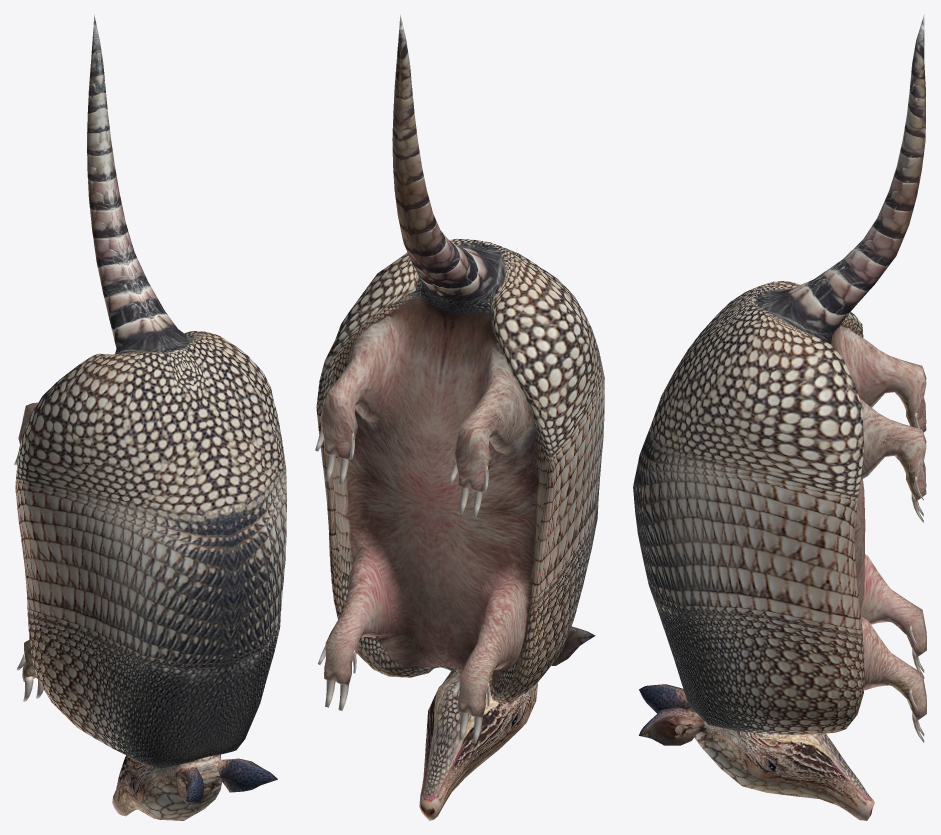
The model's file is 10002_Armadillo_v1_L3.obj.
3 views of the same model, side by side, from view 1: azimuth 30°, elevation 25°; view 2: azimuth 150°, elevation 25°; view 3: azimuth 270°, elevation 25° (orthographic). The views are drawn at different scales.
Parts seen in each view (by area): view 1: 10002_Armadillo_v1; view 2: 10002_Armadillo_v1; view 3: 10002_Armadillo_v1.
Part boxes in pixels (box(x1,y1,x2,y2)): 10002_Armadillo_v1: box(14, 15, 286, 820); 10002_Armadillo_v1: box(315, 15, 604, 820); 10002_Armadillo_v1: box(633, 15, 926, 820).
Size of the model in its own units: 42.15 by 138 by 45.52.
1 material, 1 textured.
